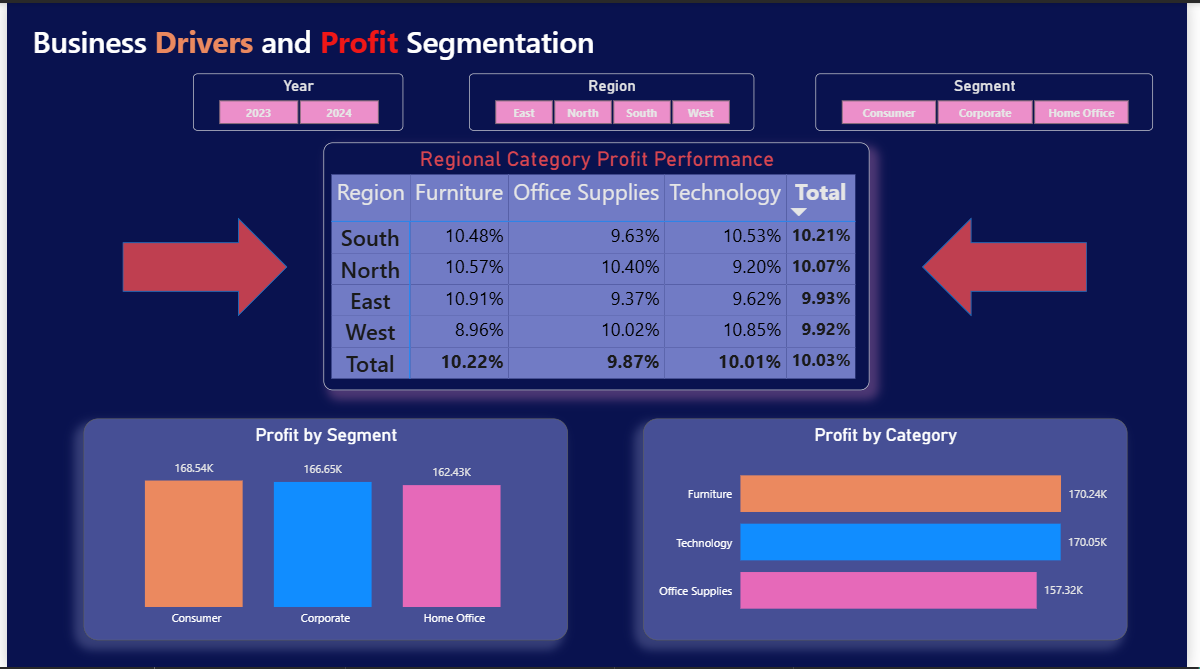

The dashboard page shown, as its layout file describes it:
{"tool":"powerbi","page":{"name":" Driver analysis","canvas":[1280,720],"ordinal":2},"visuals":[{"type":"clusteredBarChart","title":"Profit by Category","fields":{"Y":["retail_sales_analysis.Total Profit"],"Category":["retail_sales_analysis.Category"]},"box":[689.7,450.6,525.4,240.7],"z":0},{"type":"textbox","box":[22.8,14.6,842.5,78.1],"z":1000},{"type":"columnChart","title":"Profit by Segment","fields":{"Y":["retail_sales_analysis.Total Profit"],"Category":["retail_sales_analysis.Segment"]},"box":[83,450.6,525.4,240.7],"z":2000},{"type":"pivotTable","title":"Regional Category Profit Performance","fields":{"Rows":["retail_sales_analysis.Region"],"Columns":["retail_sales_analysis.Category"],"Values":["retail_sales_analysis.Profit Margin %"]},"box":[343.2,151.3,592.1,268.4],"z":3000},{"type":"slicer","title":"Year","fields":{"Values":["retail_sales_analysis.order_year"]},"box":[201.7,76.4,227.7,61.8],"z":4000},{"type":"slicer","title":"Region","fields":{"Values":["retail_sales_analysis.Region"]},"box":[501,76.4,309,61.8],"z":5000},{"type":"slicer","title":"Segment","fields":{"Values":["retail_sales_analysis.Segment"]},"box":[876.7,76.4,366,61.8],"z":6000},{"type":"shape","box":[125.2,232.6,178.9,107.4],"z":7000},{"type":"shape","box":[992.2,232.6,178.9,107.4],"z":8000}]}

Visuals, with their boxes in screenshot pixels (x1, y1, x2, y2), scaled from the page's 1280x720 canvas onto the 1200x669 screenshot:
"Profit by Category" clusteredBarChart: box(647, 419, 1139, 642)
textbox: box(21, 14, 811, 86)
"Profit by Segment" columnChart: box(78, 419, 570, 642)
"Regional Category Profit Performance" pivotTable: box(322, 141, 877, 390)
"Year" slicer: box(189, 71, 403, 128)
"Region" slicer: box(470, 71, 759, 128)
"Segment" slicer: box(822, 71, 1165, 128)
shape: box(117, 216, 285, 316)
shape: box(930, 216, 1098, 316)
